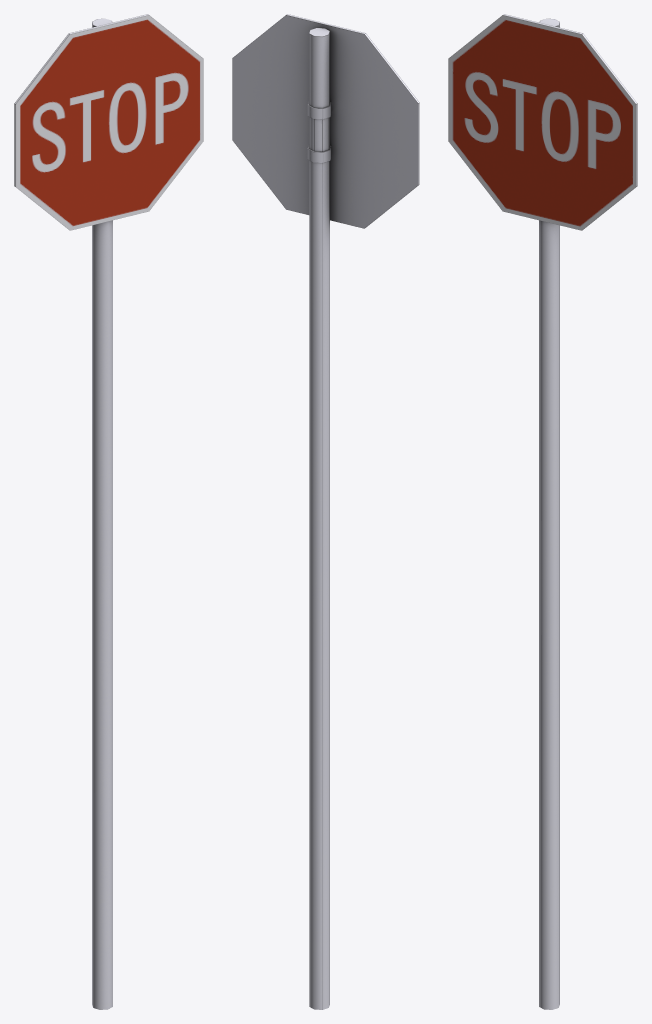
The model's file is sign#1.FBX.
The picture shows the model from 3 angles, left to right: view 1: azimuth 30°, elevation 25°; view 2: azimuth 150°, elevation 25°; view 3: azimuth 330°, elevation 25°; orthographic projection.
Parts seen in each view (by area): view 1: Cylinder001; view 2: Cylinder001; view 3: Cylinder001.
Boxes of the visible parts, bbox=[...] form: Cylinder001: bbox=[14, 14, 203, 1009]; Cylinder001: bbox=[232, 14, 419, 1009]; Cylinder001: bbox=[448, 14, 637, 1009].
Size of the model in its own units: 15.75 by 79.03 by 1.95.
